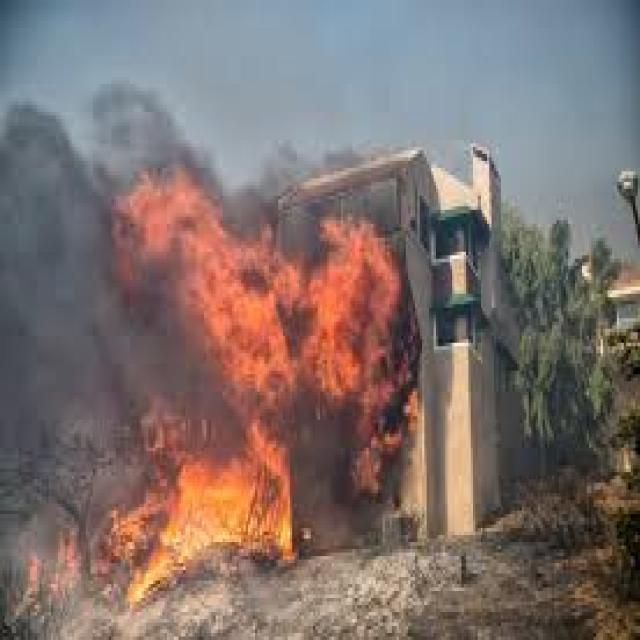Fire: (170, 215, 401, 427), (145, 456, 294, 568)
Smoke: (0, 114, 135, 507)
